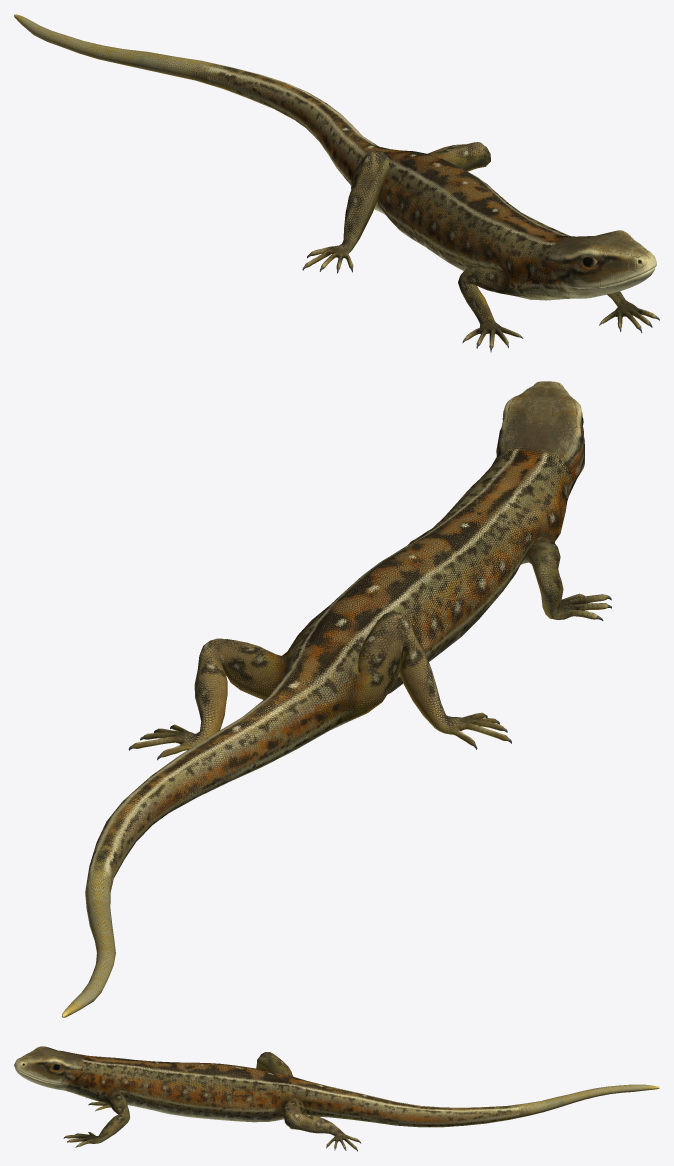
File: Standing186.obj
3 views of the same model, one above another, from view 1: azimuth 30°, elevation 25°; view 2: azimuth 150°, elevation 25°; view 3: azimuth 270°, elevation 25° (orthographic). The views are drawn at different scales.
Visible parts, largest first — view 1: Lizard; view 2: Lizard; view 3: Lizard.
Part boxes in pixels (x1,y1,x2,y2): Lizard: (14,14,659,352); Lizard: (62,381,611,1017); Lizard: (14,1046,659,1151).
Size of the model in its own units: 25.34 by 12.86 by 101.
